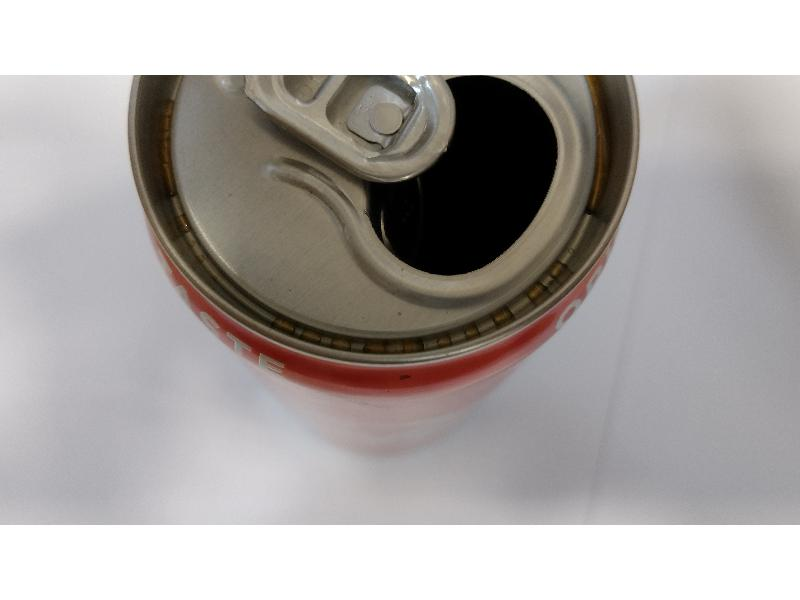can: (123, 73, 643, 431)
